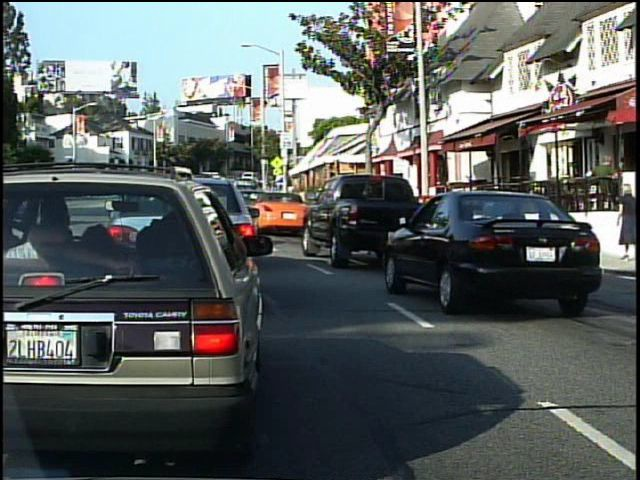person: (588, 149, 622, 233), (613, 180, 637, 264)
